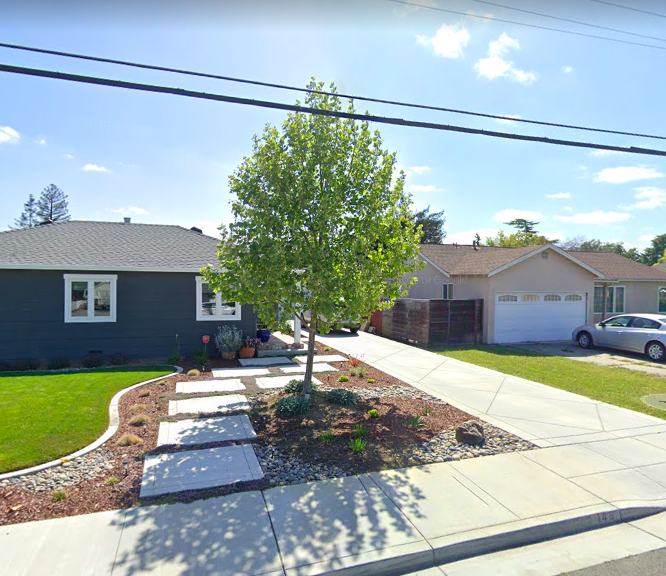tree: (199, 74, 428, 403)
